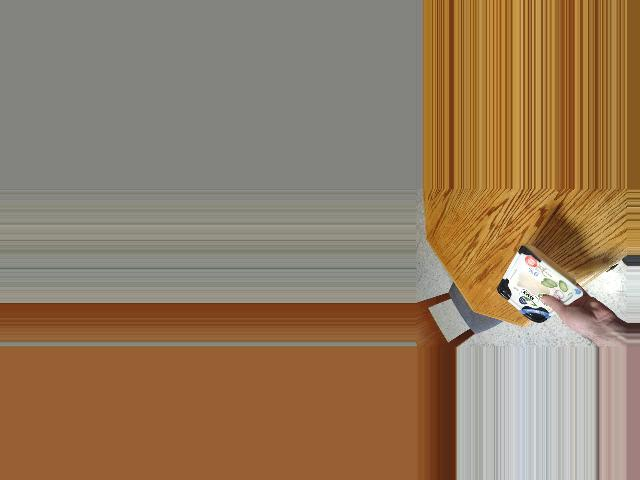cheese: (496, 250, 572, 314)
